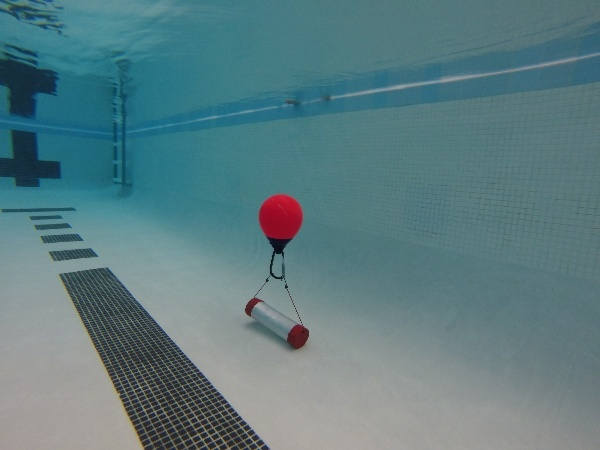buoy_red: (253, 191, 307, 255)
